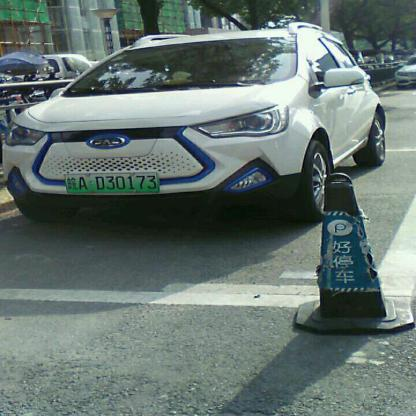lp: (63, 170, 159, 192)
